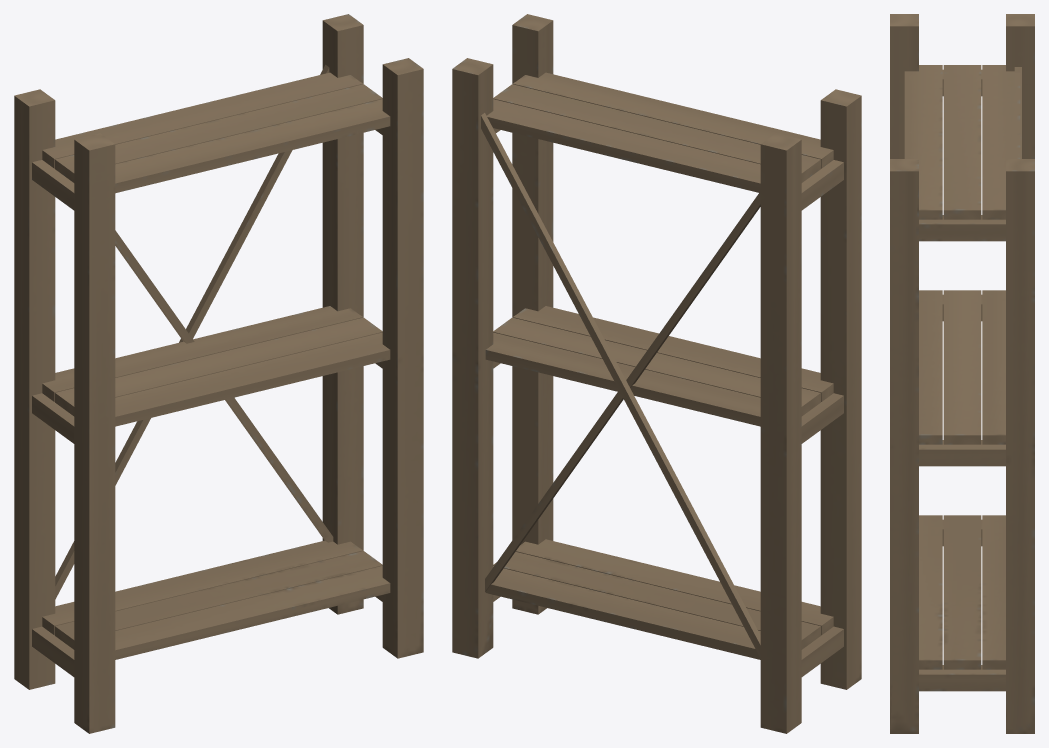
File: forest_ranger_shelter_props_shelf.glb
3 views of the same model, side by side, from view 1: azimuth 30°, elevation 25°; view 2: azimuth 150°, elevation 25°; view 3: azimuth 270°, elevation 25° (orthographic). The views are drawn at different scales.
Visible parts, largest first — view 1: RangerPropsShelf; view 2: RangerPropsShelf; view 3: RangerPropsShelf.
Part boxes in pixels (box(x1,y1,x2,y2)): RangerPropsShelf: box(14, 14, 423, 733); RangerPropsShelf: box(452, 14, 861, 733); RangerPropsShelf: box(890, 14, 1034, 733).
Size of what is drawn, in the model's own units: 0.9 by 1.5 by 0.35.
1 material, 1 textured.
